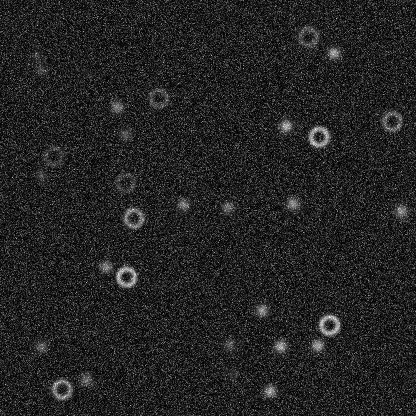Ring: (296, 24, 320, 48), (121, 205, 145, 229), (114, 264, 138, 288), (306, 124, 330, 148), (379, 109, 403, 133), (49, 377, 73, 401), (113, 170, 137, 194), (41, 144, 65, 168), (146, 85, 170, 109), (317, 312, 341, 336)
Spot: (32, 60, 48, 76), (309, 337, 325, 353), (33, 166, 49, 182), (325, 45, 341, 61), (220, 336, 236, 352), (78, 371, 94, 387), (117, 126, 133, 142), (284, 195, 300, 211), (277, 117, 293, 133), (272, 338, 288, 354), (109, 98, 125, 114), (175, 196, 191, 212), (28, 47, 44, 63), (261, 382, 277, 398), (97, 258, 113, 274), (219, 199, 235, 215), (392, 202, 408, 218), (253, 301, 269, 317), (224, 365, 240, 381), (33, 338, 49, 354)
